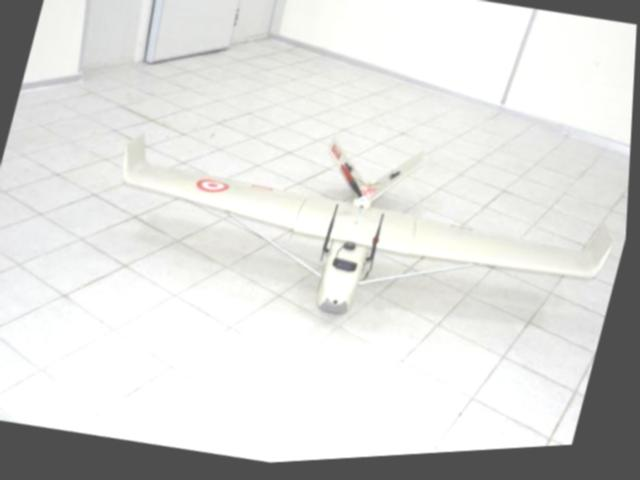iha: (79, 80, 636, 382)
